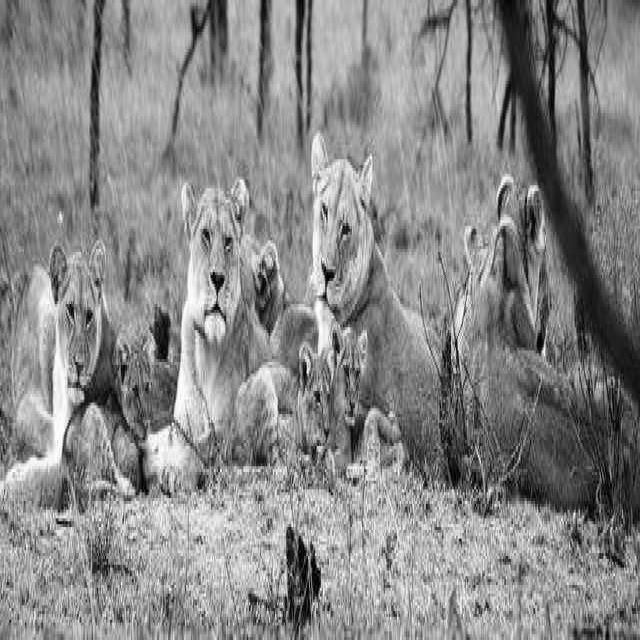Lion: (178, 154, 284, 399), (42, 193, 108, 443), (303, 152, 384, 335), (290, 348, 344, 460)
